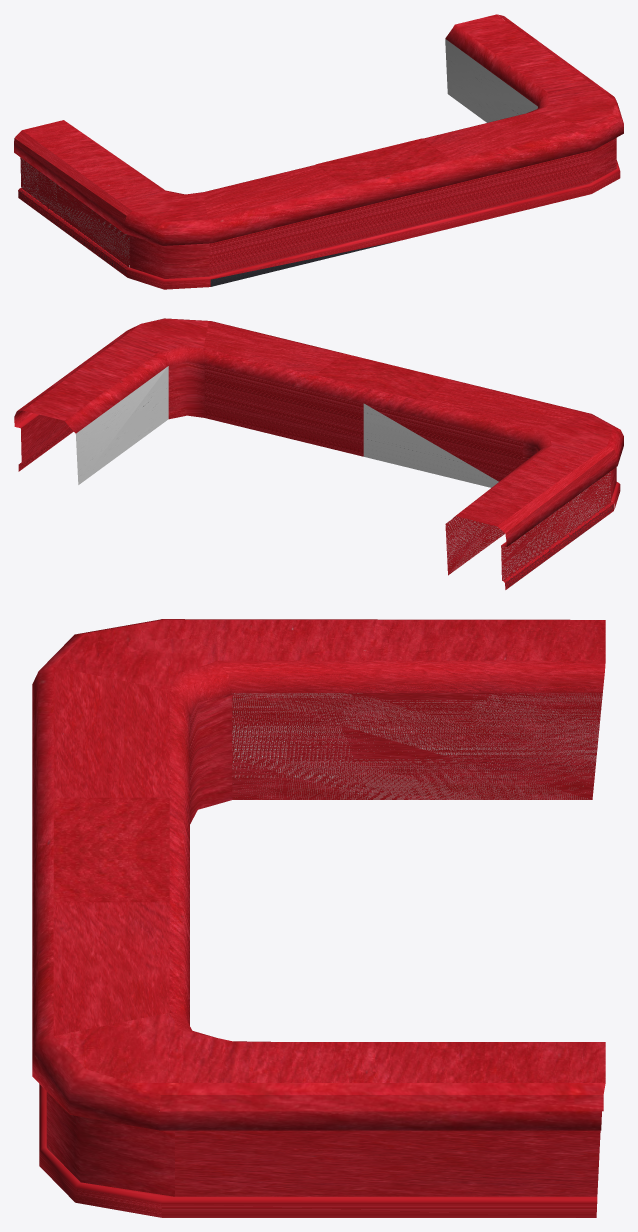
Rendered from Mostrador3.obj.
The picture shows the model from 3 angles, top to bottom: view 1: azimuth 30°, elevation 25°; view 2: azimuth 150°, elevation 25°; view 3: azimuth 270°, elevation 25°; orthographic projection. The views are drawn at different scales.
Parts seen in each view (by area): view 1: Mostrador2:polySurface1PC_Scene2; view 2: Mostrador2:polySurface1PC_Scene2; view 3: Mostrador2:polySurface1PC_Scene2.
Part boxes in pixels (x1,y1,x2,y2): Mostrador2:polySurface1PC_Scene2: [14, 14, 623, 289]; Mostrador2:polySurface1PC_Scene2: [14, 318, 623, 589]; Mostrador2:polySurface1PC_Scene2: [32, 619, 605, 1217].
Size of the model in its own units: 8 by 1.01 by 4.03.
Materials: 7 (5 with a texture image).
